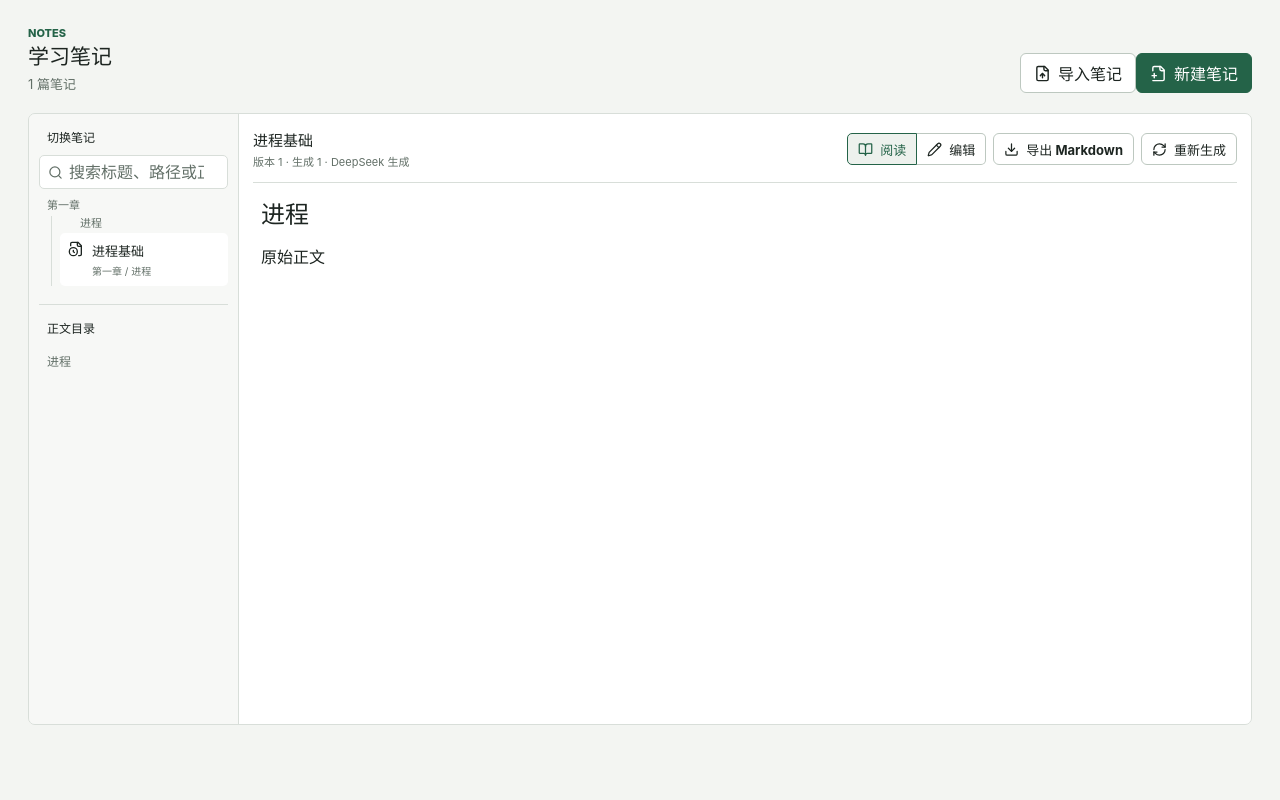
Test: NotesPage › detects a version conflict and loads the latest server note
expect the element named "笔记阅读视图" is shown: met, box [253, 182, 1237, 710]
Click the button "编辑" at [952, 149], box [917, 133, 986, 165]
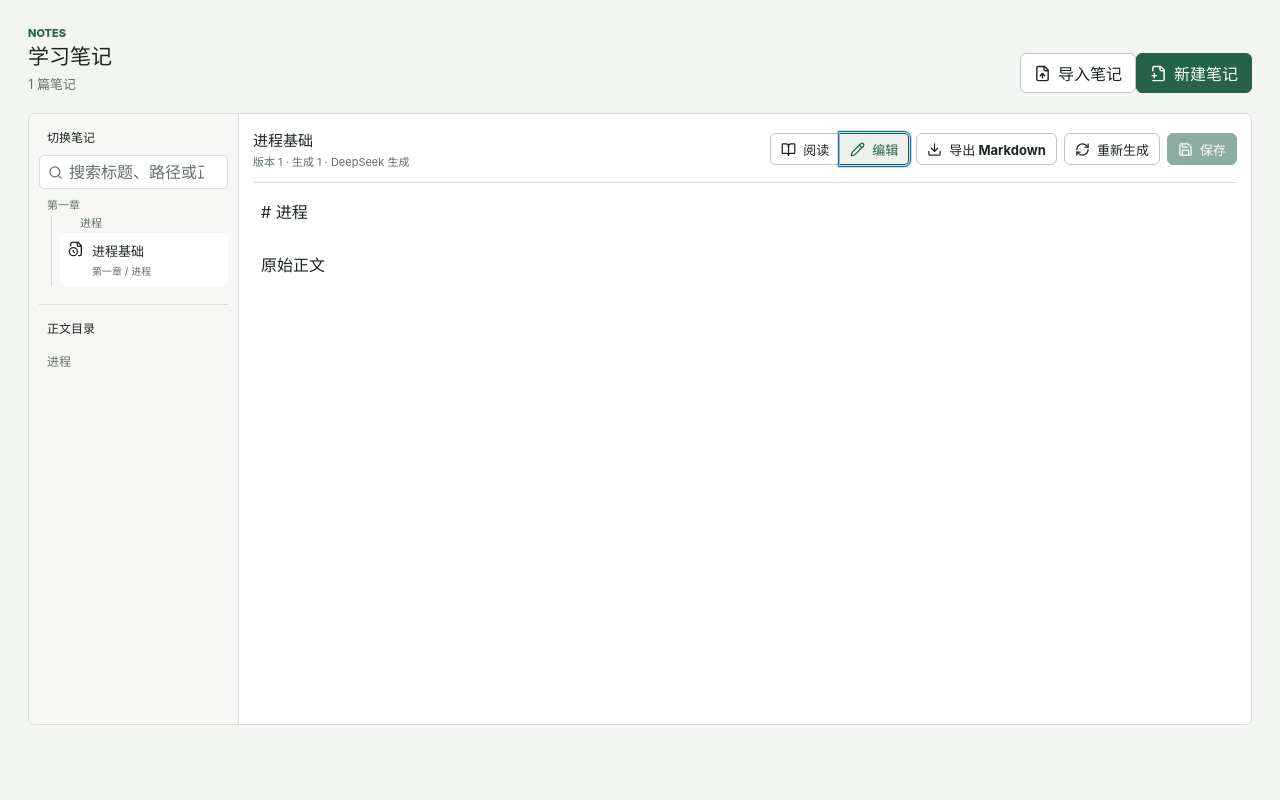
Replace the text in the text box named "笔记正文" with "# 本地草稿" at [745, 446], box [253, 182, 1237, 710]
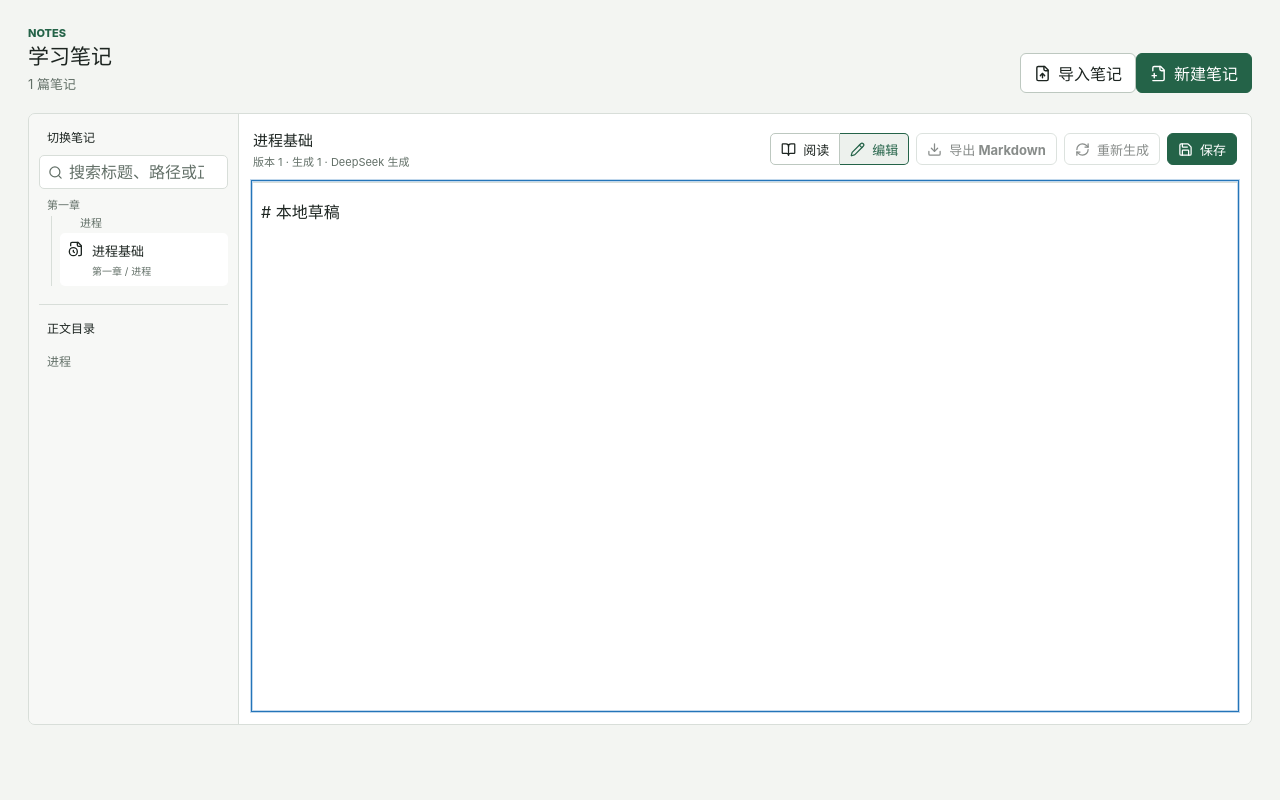
Click the button "保存" at [1202, 149], box [1167, 133, 1237, 165]
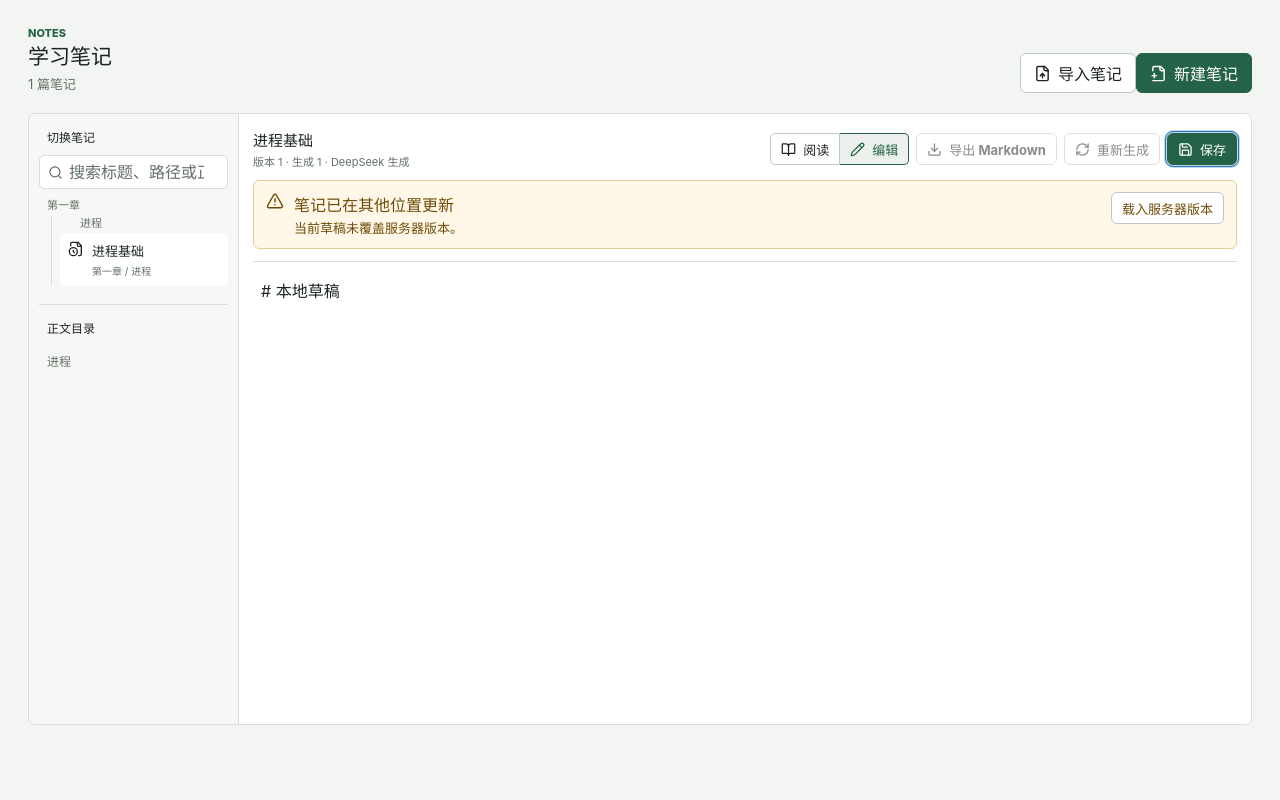
expect the message shows "笔记已在其他位置更新": met, box [294, 195, 454, 215]
expect the message shows "当前草稿未覆盖服务器版本": met, box [294, 220, 463, 236]
Click the button "载入服务器版本" at [1168, 208], box [1111, 192, 1224, 224]
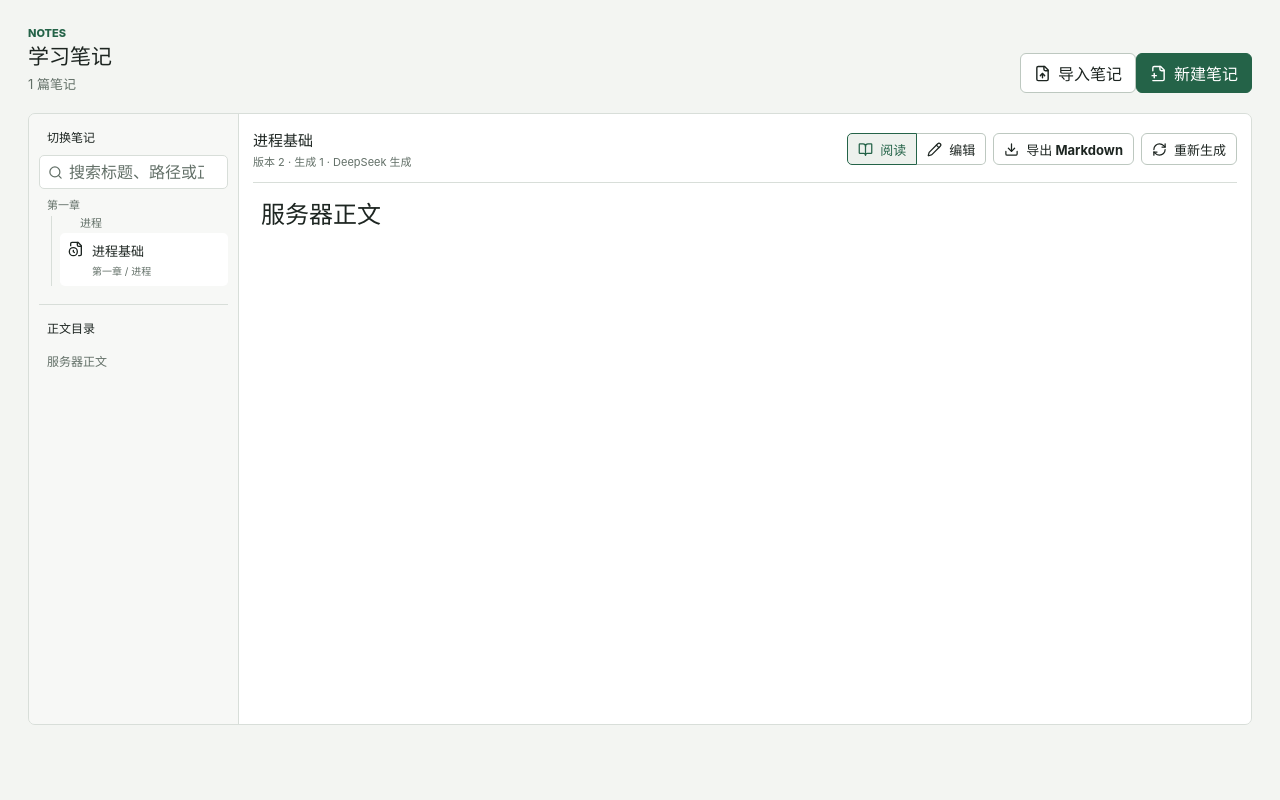
expect the element named "笔记阅读视图" reads "服务器正文": met, box [261, 200, 381, 229]
Click the button "编辑" at [952, 149], box [917, 133, 986, 165]
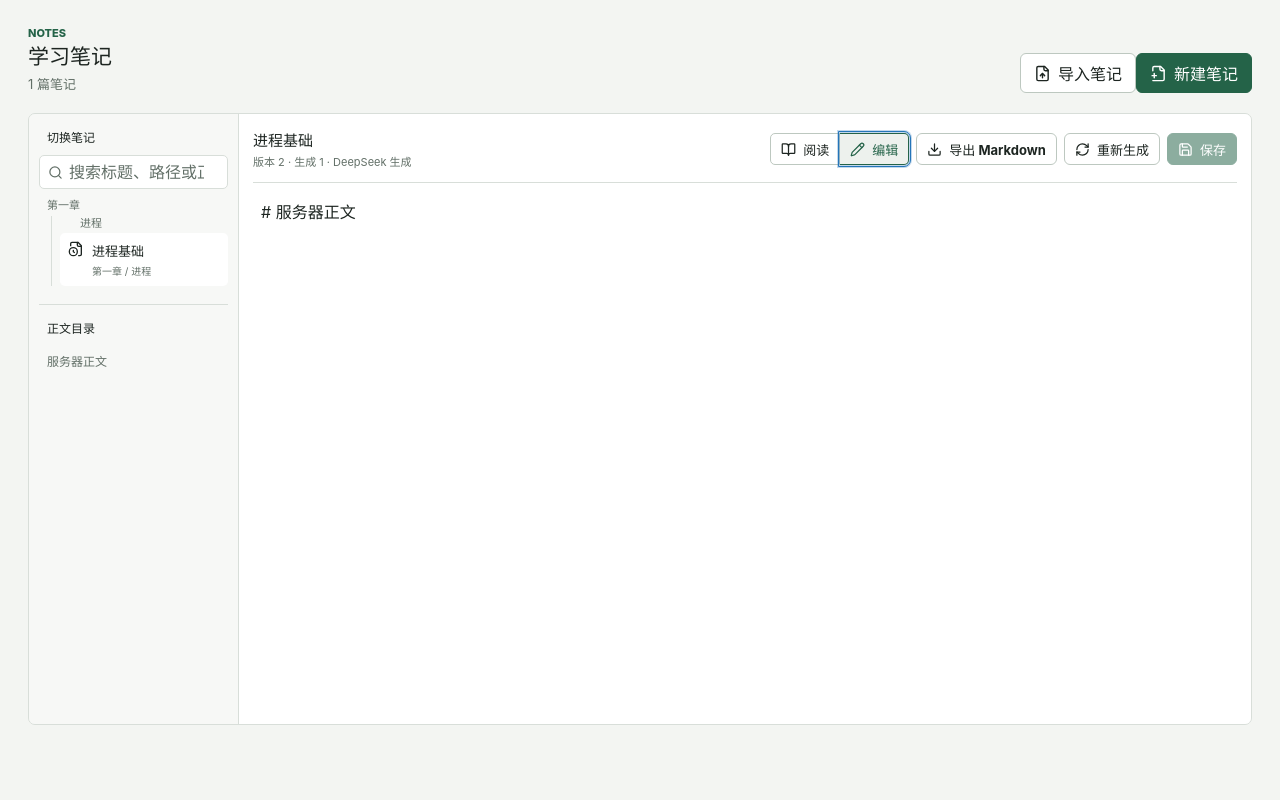
expect the text "笔记已在其他位置更新" is not shown: met
expect the text box named "笔记正文" holds "# 服务器正文": met, box [253, 182, 1237, 710]
